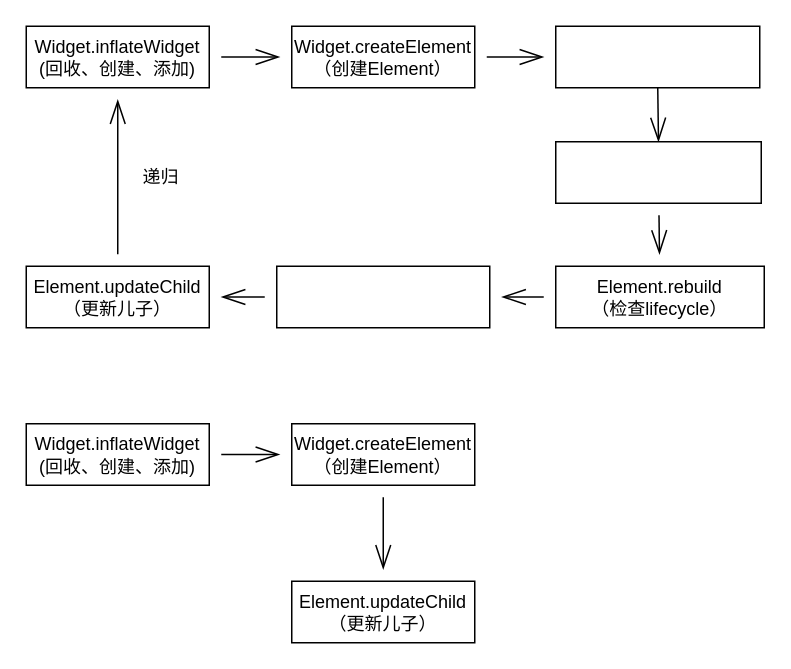
Image size: 791x669. Some labels were removed from this diagram. Here are the shapes that lost their labels. From the top down, the box of each, then its label:
(554, 25, 760, 88): Element.mount （添加Element到树上）
(554, 140, 761, 203): ComponentElement
(275, 265, 490, 328): Element.performRebuild （检查lifecycle）
